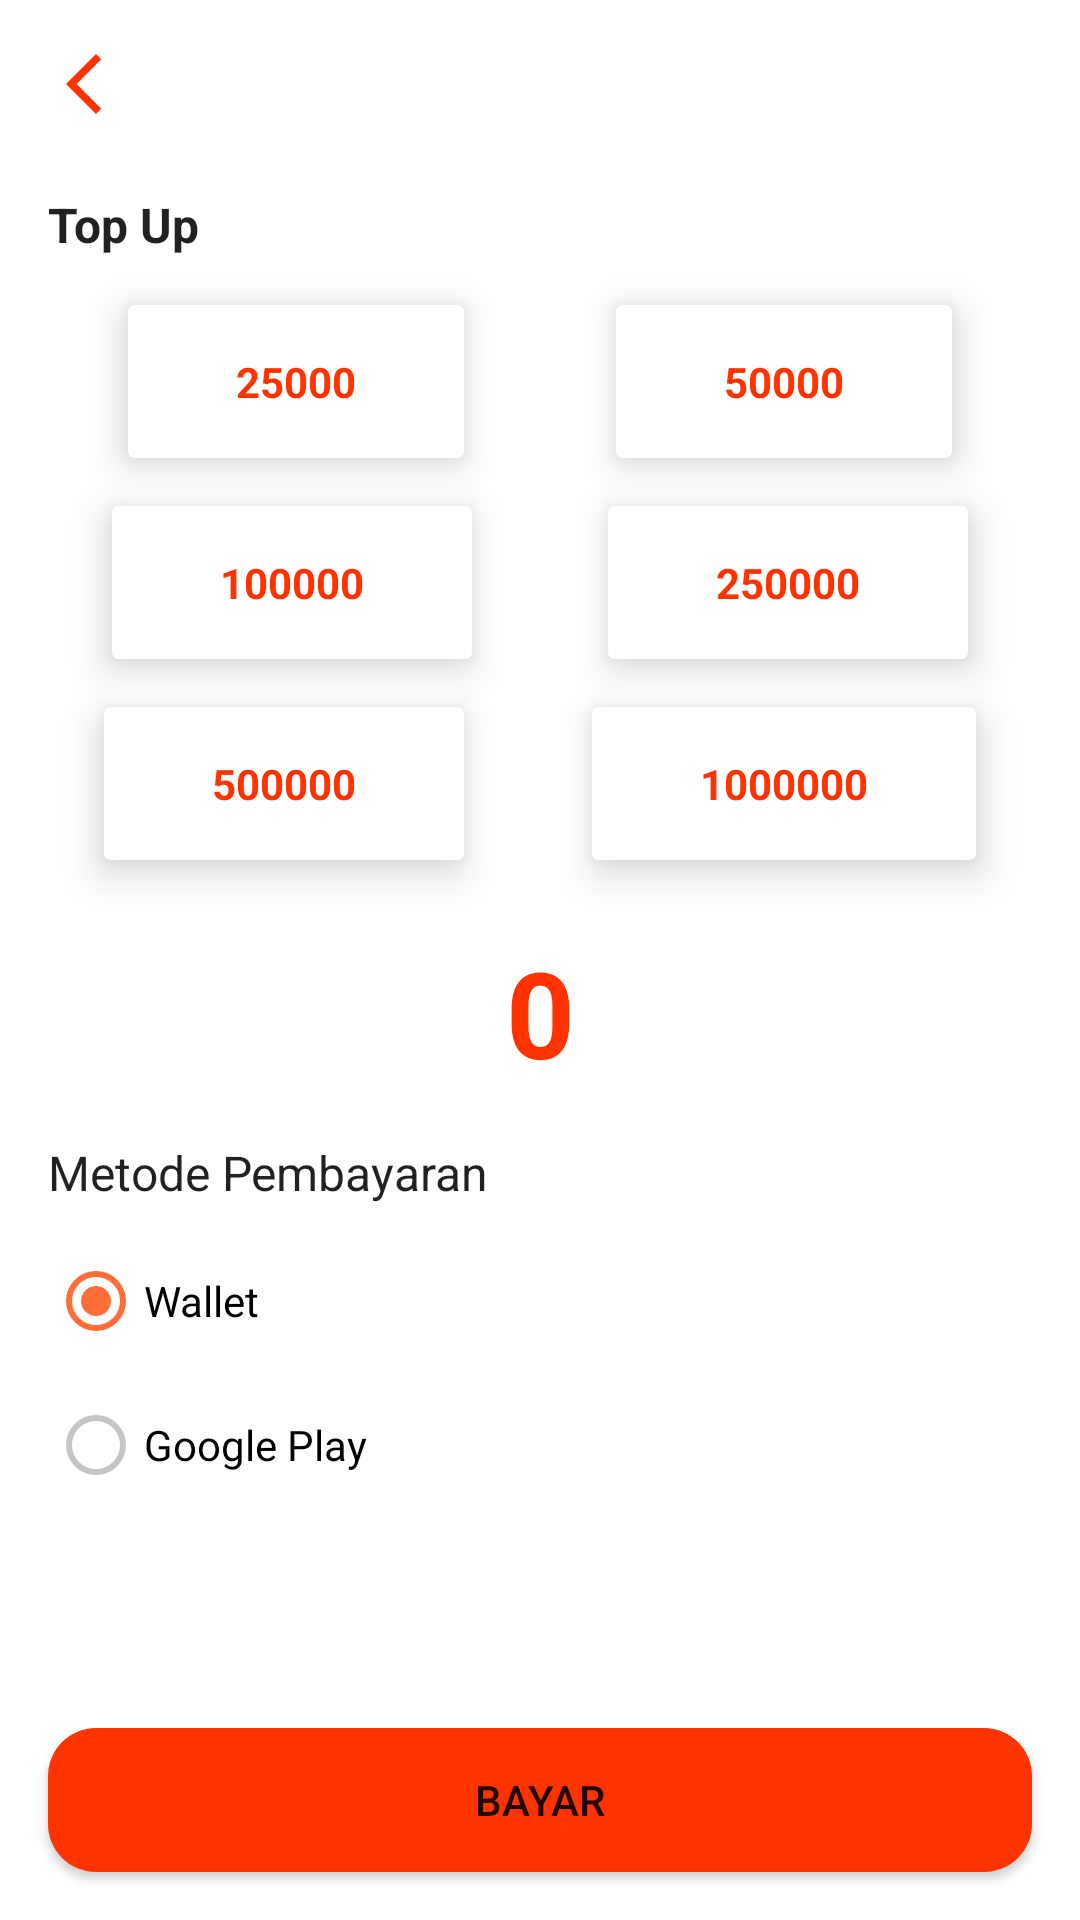

Where icons sit on this 1080x1920 app screen, as {"x1": x1, "y1": y1, "x2": x2, "y2": y2}:
arrow back: {"x1": 66, "y1": 54, "x2": 101, "y2": 114}
